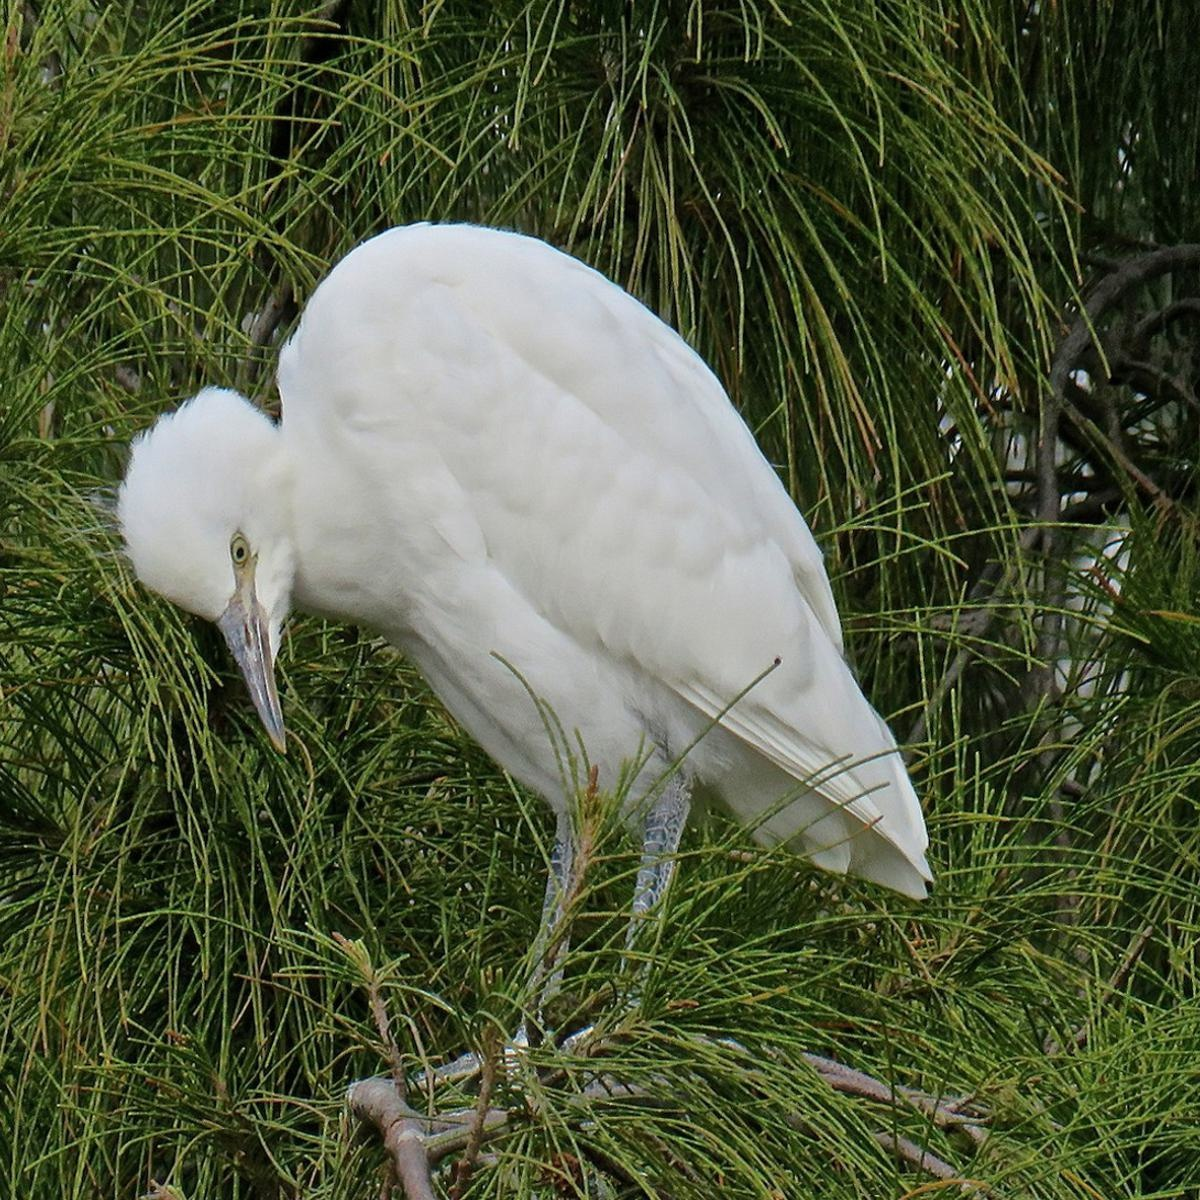egret: (105, 213, 952, 1051)
